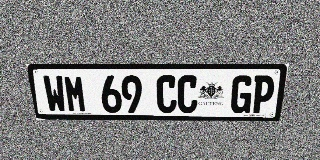6: (100, 75, 122, 113)
9: (121, 75, 143, 113)
C: (177, 75, 199, 113), (156, 75, 177, 113)
G: (230, 75, 254, 113)
M: (63, 75, 87, 112)
P: (250, 75, 276, 113)
W: (42, 75, 67, 112)
